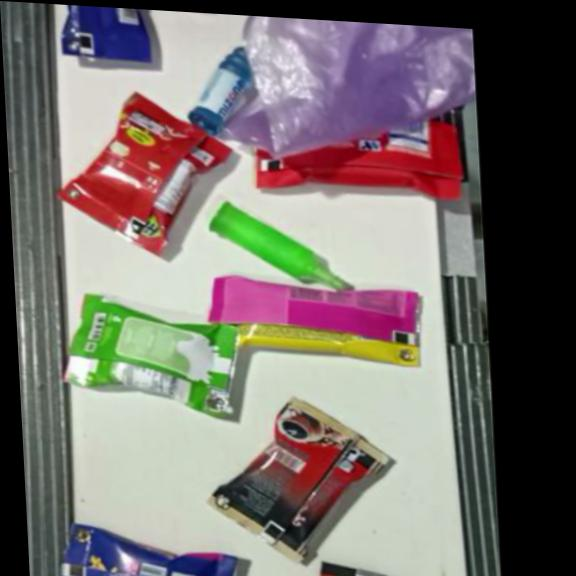Plastik: (210, 12, 479, 168), (202, 390, 398, 569), (51, 85, 236, 260), (59, 290, 245, 420), (250, 90, 464, 200), (206, 273, 424, 367), (207, 199, 352, 291), (57, 522, 241, 576), (182, 42, 259, 135), (58, 3, 152, 60), (317, 560, 437, 576)
